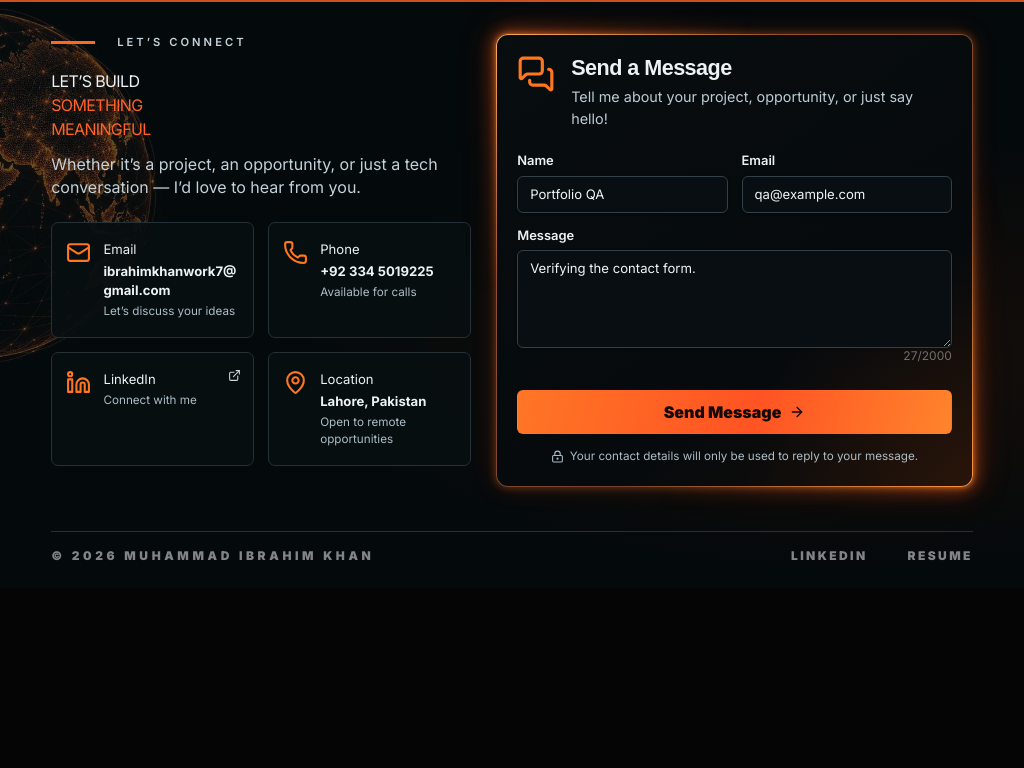
Contact verification › loads once when the visitor uses the form and sends only after verification
This screenshot has width=1024, height=768.
Earlier steps of the test are not shown.
Step 1. Click the button "Send Message" → click(734, 412), box 517,390 -> 952,434
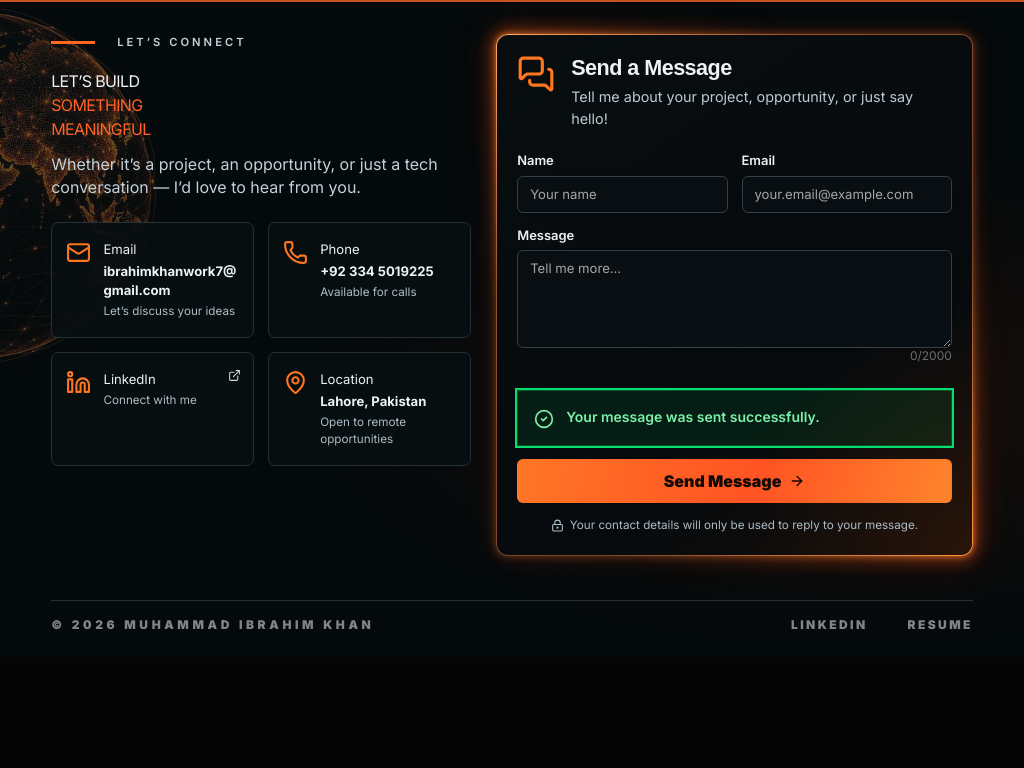
Expected: the text "Your message was sent successfully." is shown, 566,407 -> 820,427
